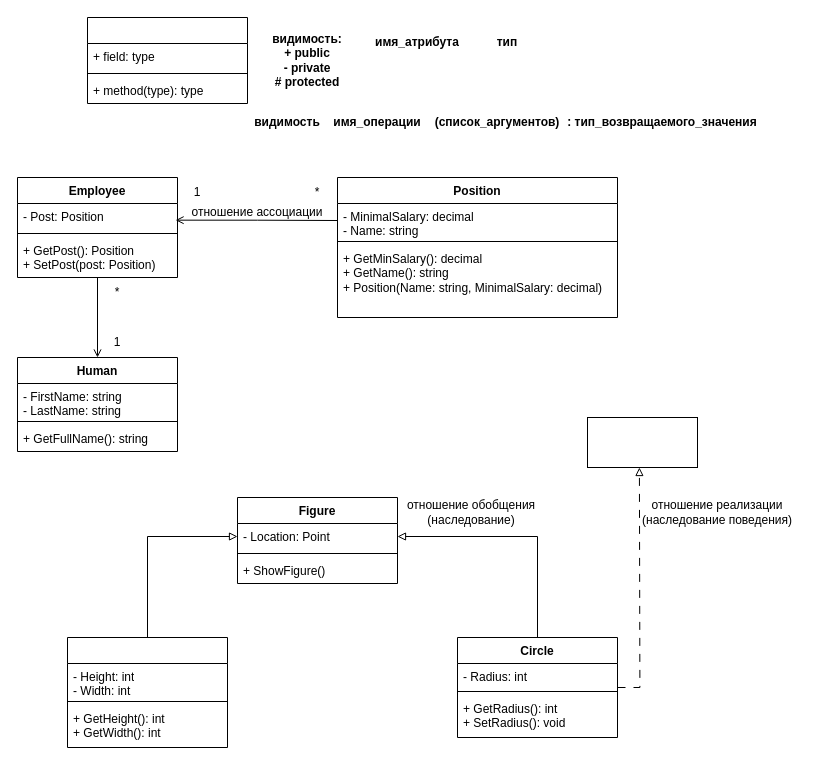
This 815x768 diagram has some shape labels left out. The shapes that lost their labels are listed below. From the top down, each one's box as (x1, y1, x2, y2) in pixels, then its label:
(86, 16, 248, 104): Classname
(586, 416, 698, 468): «interface» ICurve
(66, 636, 228, 748): Rectangle
